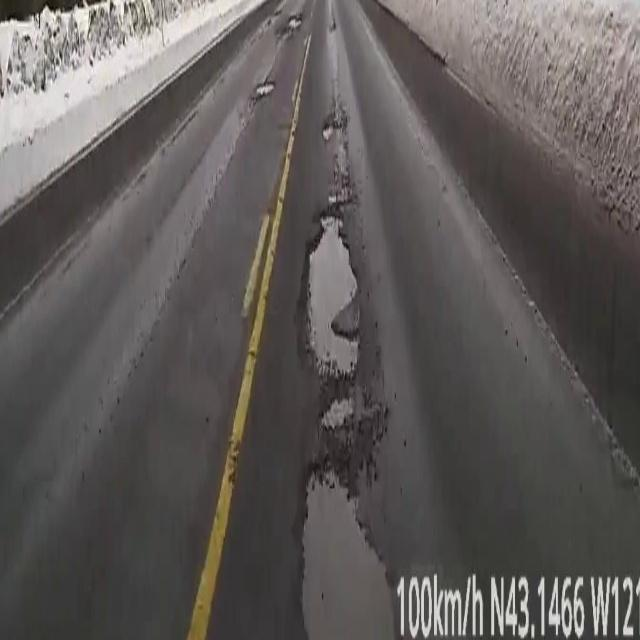pothole: (297, 392, 393, 613), (308, 216, 356, 370), (252, 78, 275, 94), (288, 13, 302, 32)
